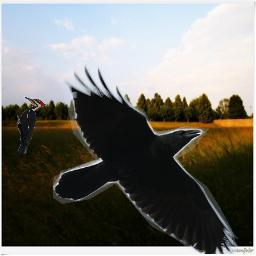Crow: (53, 63, 238, 254)
Woodpecker: (17, 96, 47, 154)
